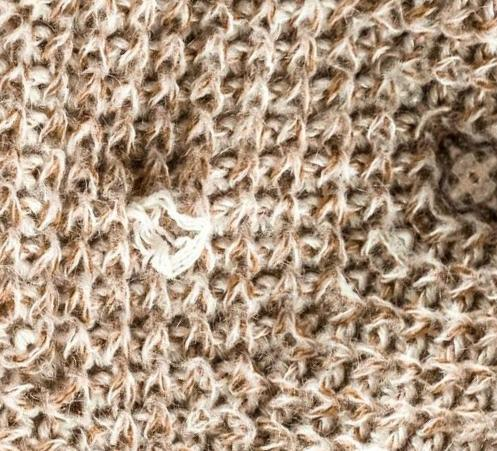snag: (115, 177, 227, 286)
